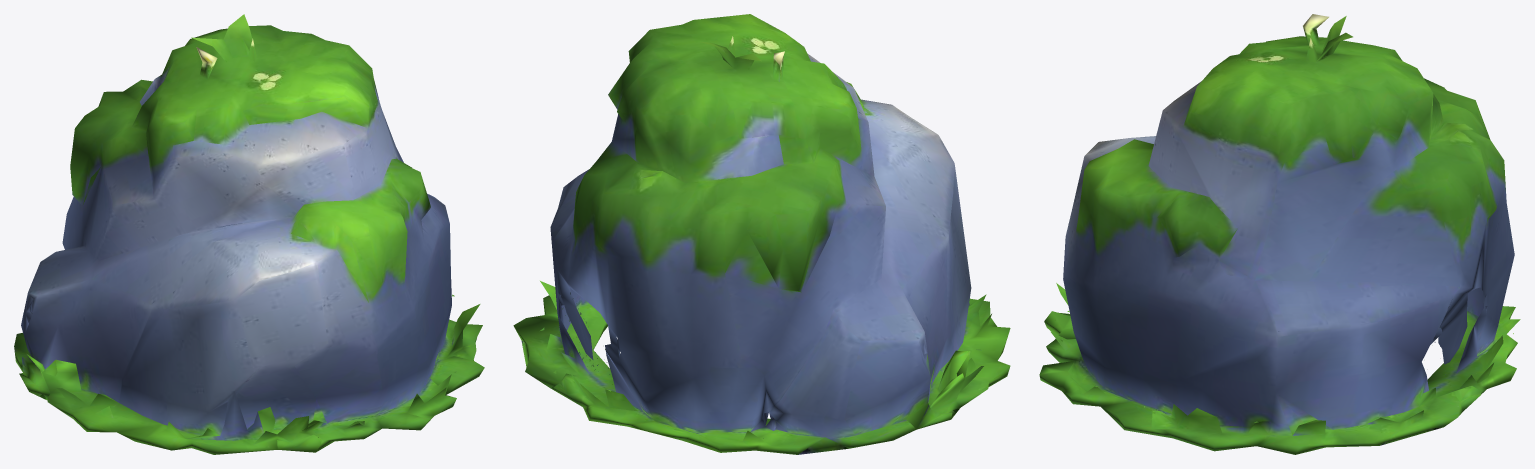
The model's file is rock_big-BGofRLN_.glb.
3 renders of one model, left to right at view 1: azimuth 30°, elevation 25°; view 2: azimuth 150°, elevation 25°; view 3: azimuth 270°, elevation 25°, orthographic. The views are drawn at different scales.
Visible parts, largest first — view 1: rock_big; view 2: rock_big; view 3: rock_big.
Boxes of the visible parts, bbox=[...] form: rock_big: bbox=[14, 14, 484, 454]; rock_big: bbox=[513, 14, 1010, 454]; rock_big: bbox=[1039, 14, 1520, 454].
Size of the model in its own units: 2.6 by 1.9 by 2.52.
Materials: 1 (1 with a texture image).
